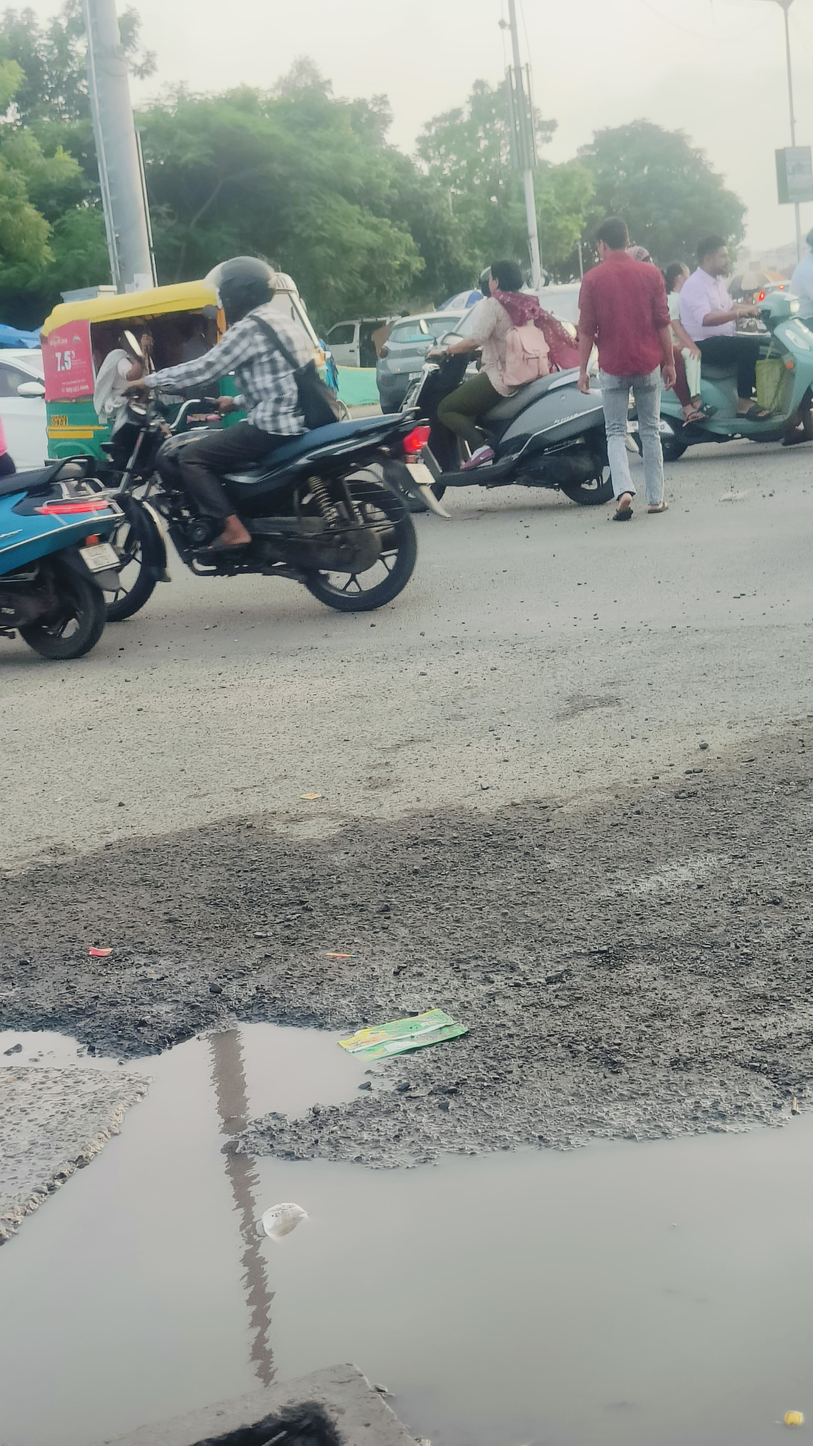BikeWithRider: (53, 249, 456, 620), (388, 252, 641, 503), (631, 231, 813, 474)
Helmet: (200, 251, 282, 330)
NoHelmet: (476, 252, 534, 302), (692, 232, 737, 282)
